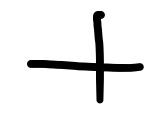mult: (27, 11, 144, 104)
